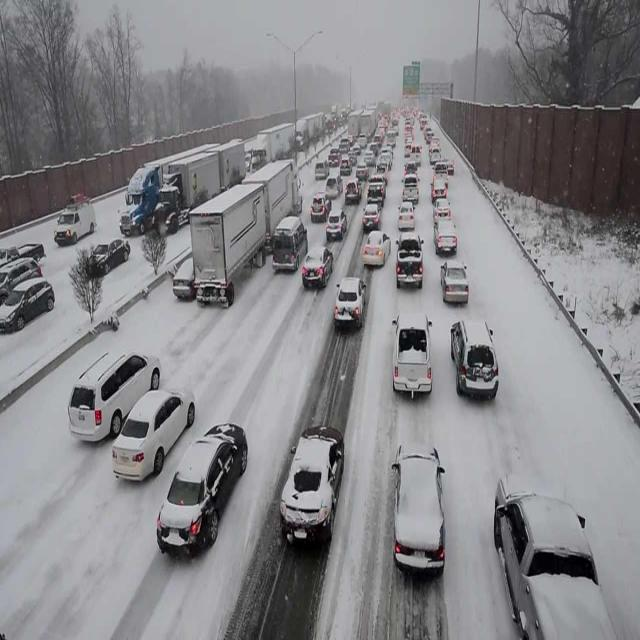Car: (156, 422, 248, 560), (66, 347, 161, 444), (112, 385, 196, 483), (279, 425, 345, 546), (391, 441, 446, 578), (450, 317, 499, 402), (392, 312, 434, 397), (0, 277, 54, 336), (0, 256, 43, 305), (333, 275, 367, 331), (85, 237, 131, 277), (301, 246, 334, 292), (440, 258, 469, 304), (362, 230, 392, 270), (172, 256, 198, 302), (433, 218, 458, 257), (325, 209, 348, 243), (309, 193, 332, 223), (361, 203, 382, 233), (396, 202, 416, 232), (430, 175, 448, 205), (433, 198, 452, 226), (325, 174, 343, 202), (344, 177, 362, 203), (432, 161, 449, 181), (314, 159, 330, 180), (339, 158, 353, 176), (356, 163, 369, 180), (404, 160, 418, 175), (430, 146, 441, 164), (364, 151, 376, 167), (444, 156, 454, 174), (348, 150, 357, 164), (403, 142, 411, 156), (370, 142, 378, 154)
Truck: (494, 468, 615, 640), (189, 157, 304, 307), (119, 142, 224, 237), (152, 139, 246, 235), (250, 122, 296, 174), (395, 233, 425, 289), (294, 110, 326, 150), (0, 242, 46, 269), (360, 105, 379, 139), (401, 173, 420, 204), (348, 106, 364, 136), (328, 147, 341, 167), (338, 137, 351, 153), (330, 106, 338, 118)
Van: (272, 215, 309, 274), (54, 200, 98, 247), (410, 143, 422, 166)
